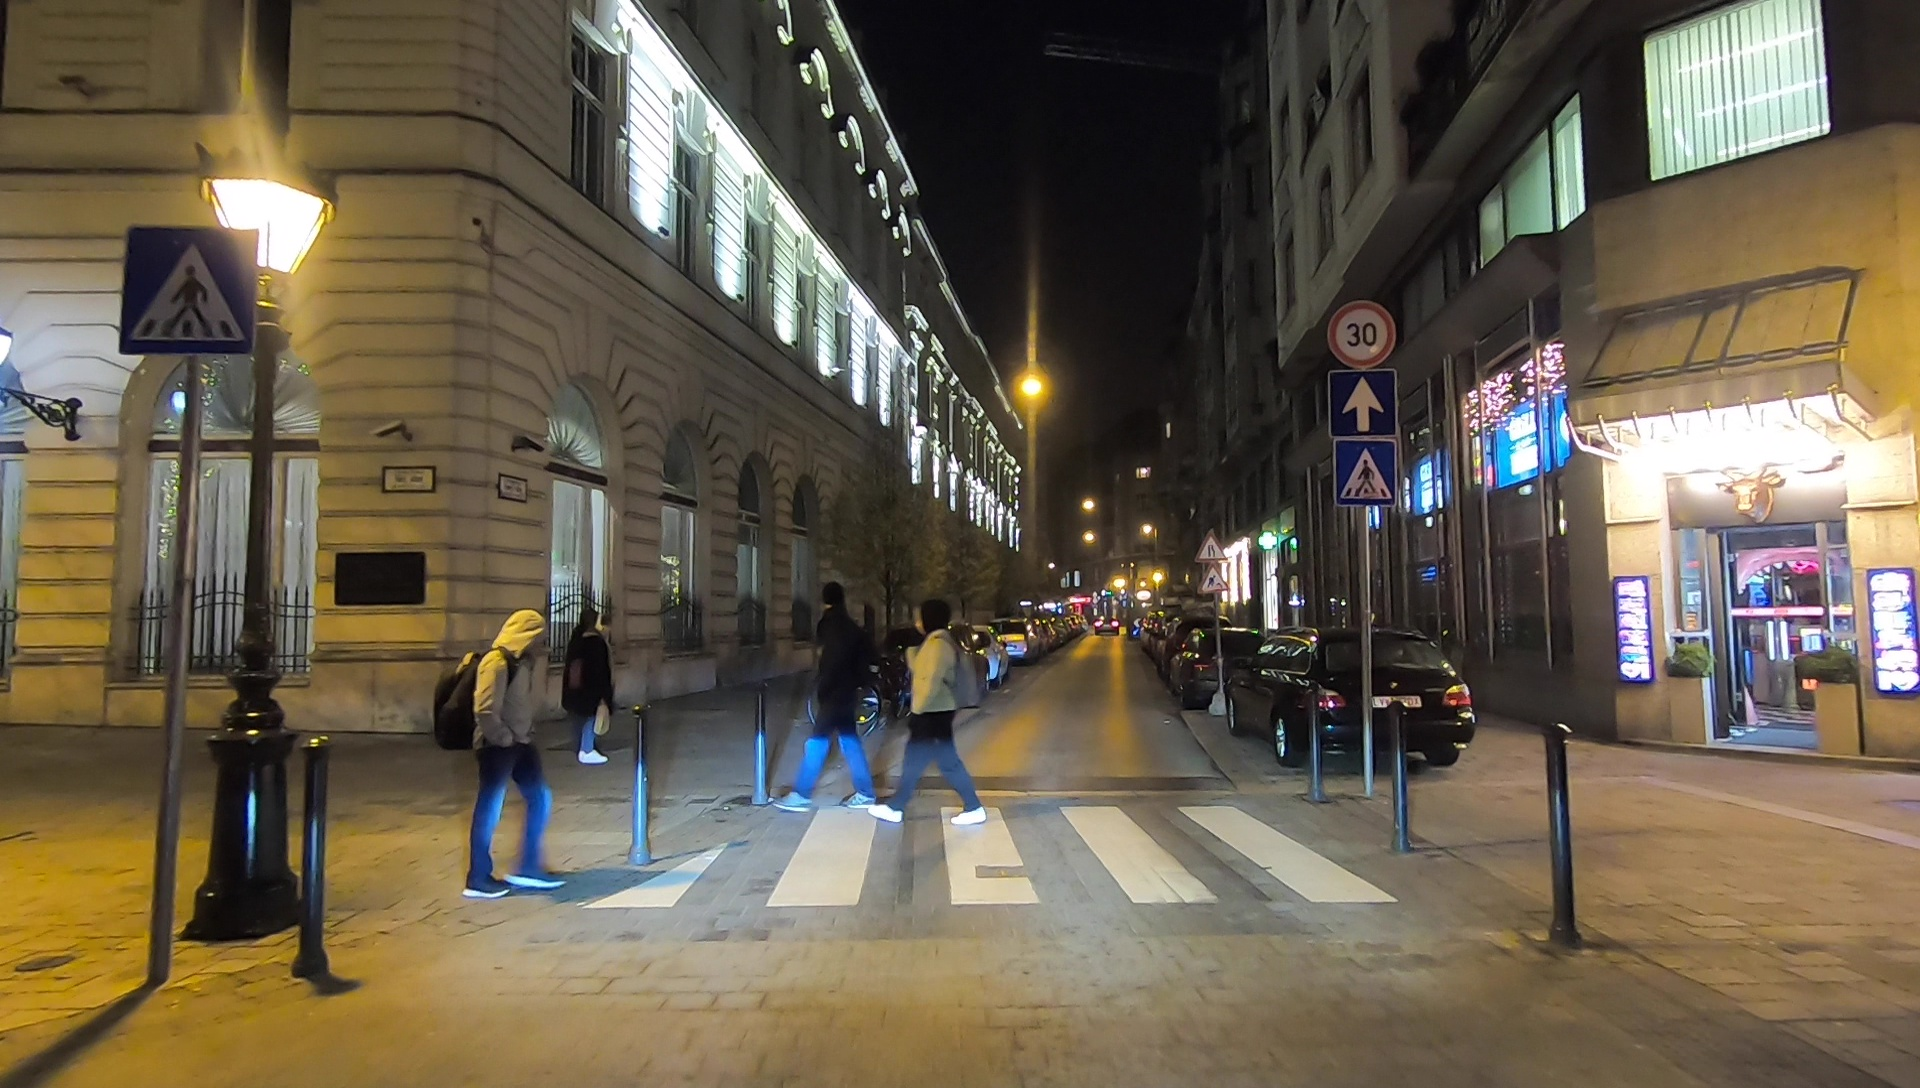person: (443, 602, 569, 906), (882, 600, 993, 824), (786, 571, 875, 811), (567, 599, 617, 771)
